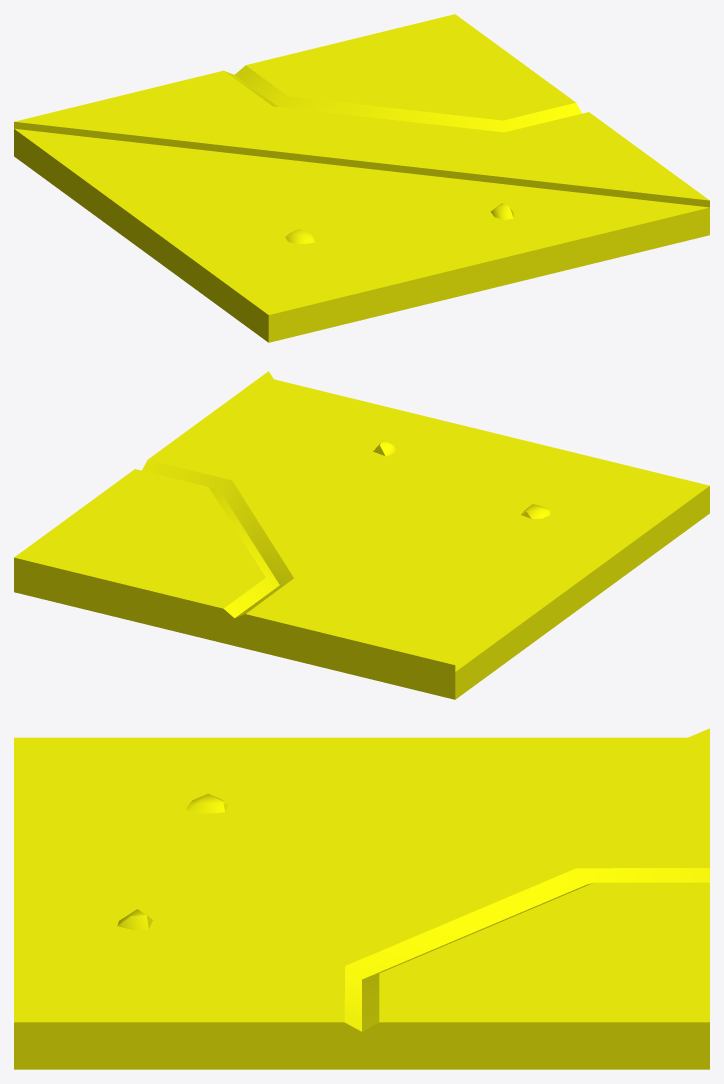
The model's file is kaykit-floor-dirt-small-corner.glb.
The picture shows the model from 3 angles, top to bottom: view 1: azimuth 30°, elevation 25°; view 2: azimuth 150°, elevation 25°; view 3: azimuth 270°, elevation 25°; orthographic projection. The views are drawn at different scales.
Parts seen in each view (by area): view 1: floor_dirt_small_corner; view 2: floor_dirt_small_corner; view 3: floor_dirt_small_corner.
Boxes of the visible parts, bbox=[...] form: floor_dirt_small_corner: bbox=[14, 14, 709, 342]; floor_dirt_small_corner: bbox=[14, 371, 709, 699]; floor_dirt_small_corner: bbox=[14, 728, 709, 1069].
Bounding box in the file's own units: 2 × 0.1538 × 2.
